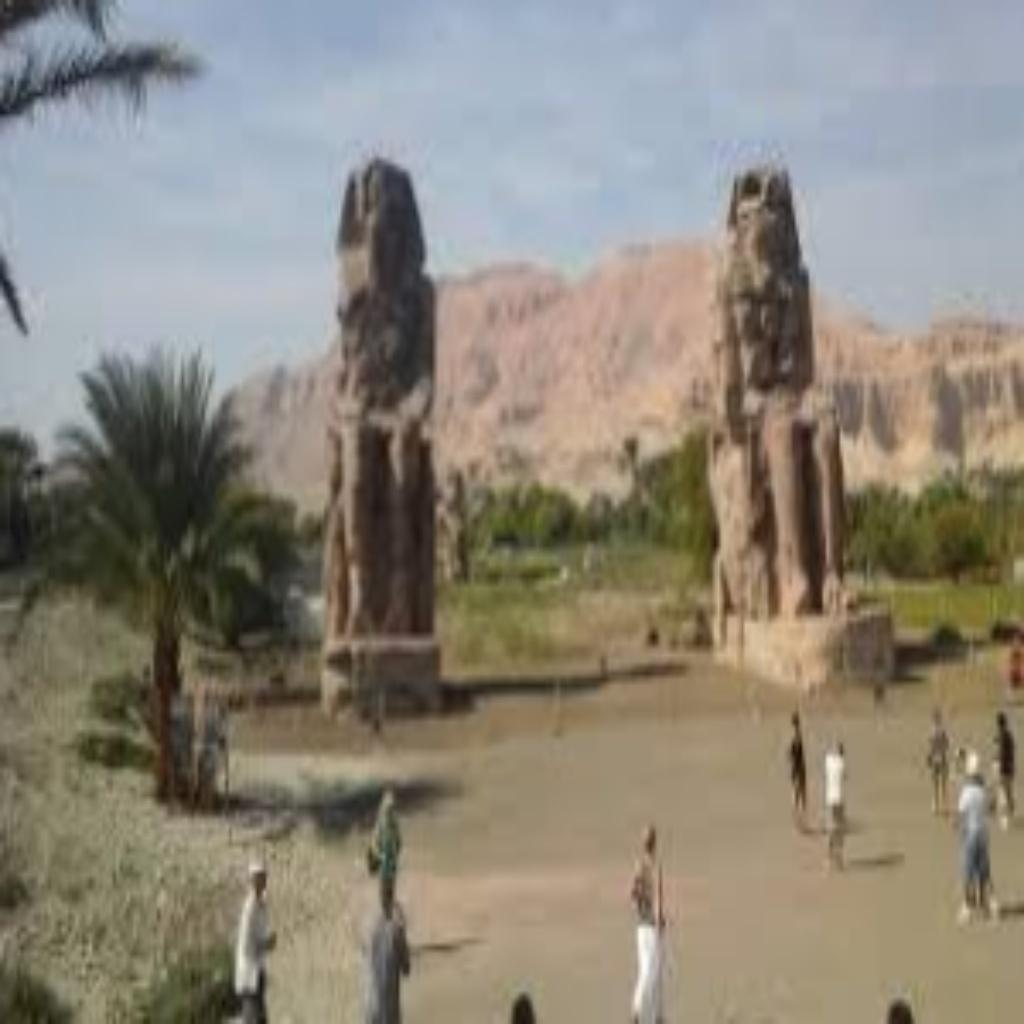Colossoi of Memnon: (308, 140, 450, 713), (706, 146, 860, 634)
